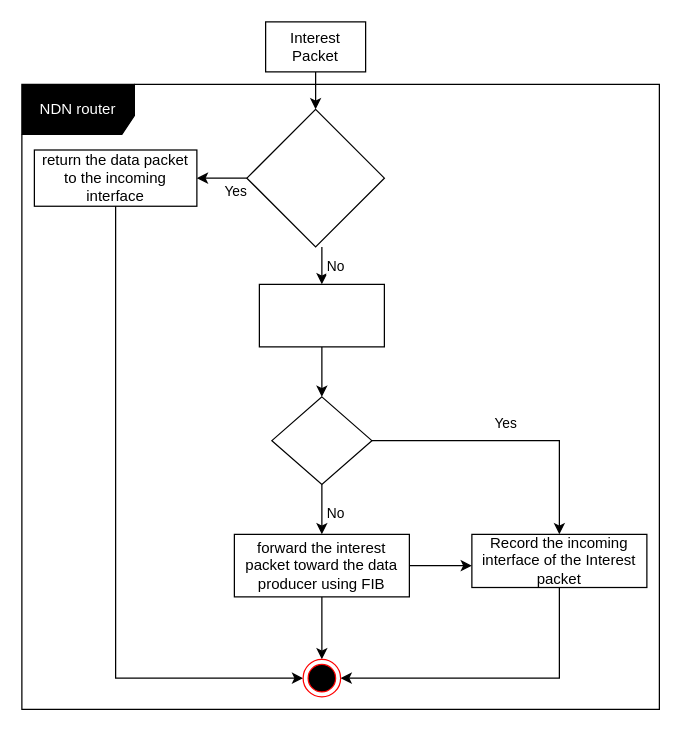
The diagram is 681 pixels wide and 731 high, and some of its shapes have lost their labels. The centre of each missing label's shape, as x and y in pixels:
"Data exists in the content store?" belongs at point 315,177.
"Look up the name of the interest packet in PIT?" belongs at point 321,315.
"Matches?" belongs at point 321,440.
